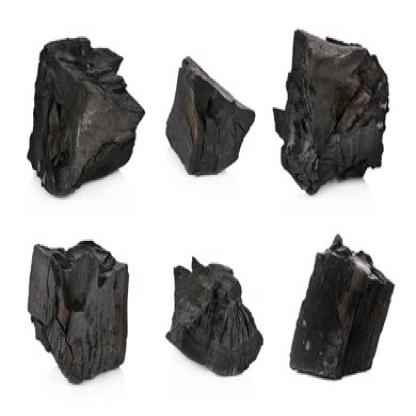Sedimentary_coal: (22, 25, 150, 193), (270, 20, 387, 200), (278, 230, 392, 396), (19, 231, 128, 381), (163, 36, 257, 186), (158, 244, 262, 376)
